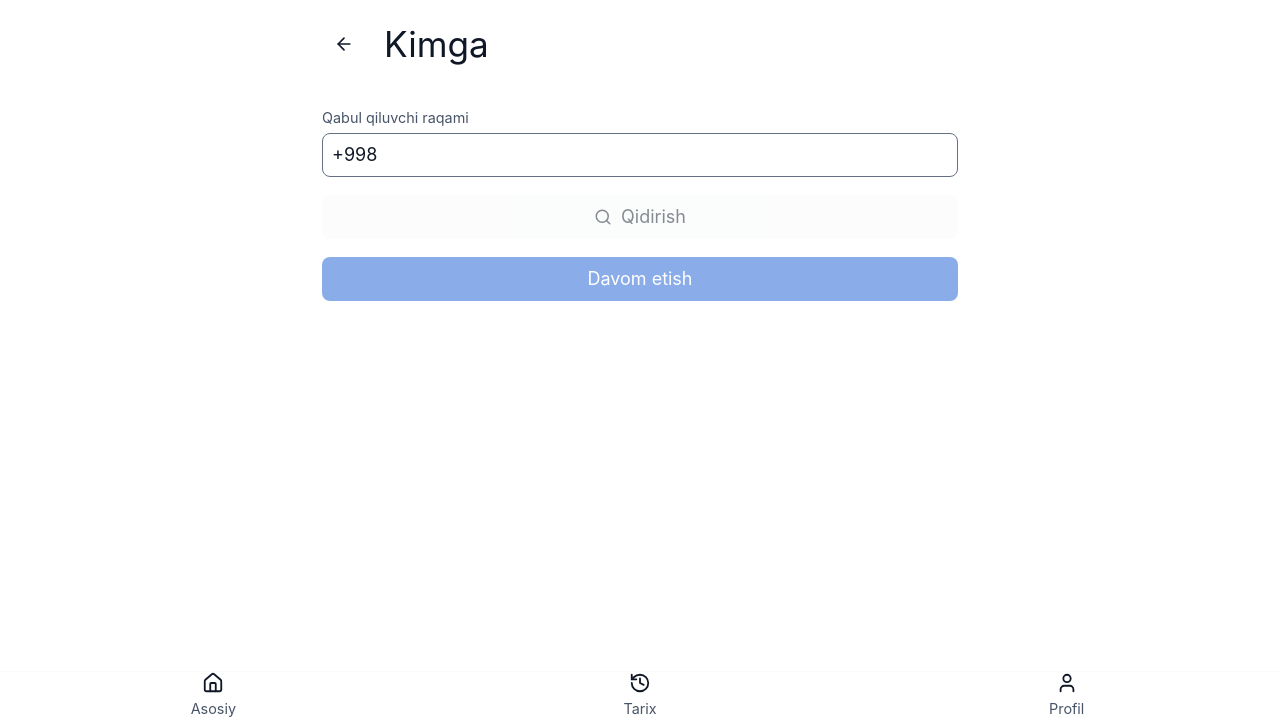
step 2 — the daily allowance › refuses an amount the server would refuse, before spending the round trip
The width and height of the screenshot is (1280, 720).
Type "907654321" into the field labelled "Qabul qiluvchi raqami". click: [640, 155]
box: x1=322 y1=133 x2=958 y2=177
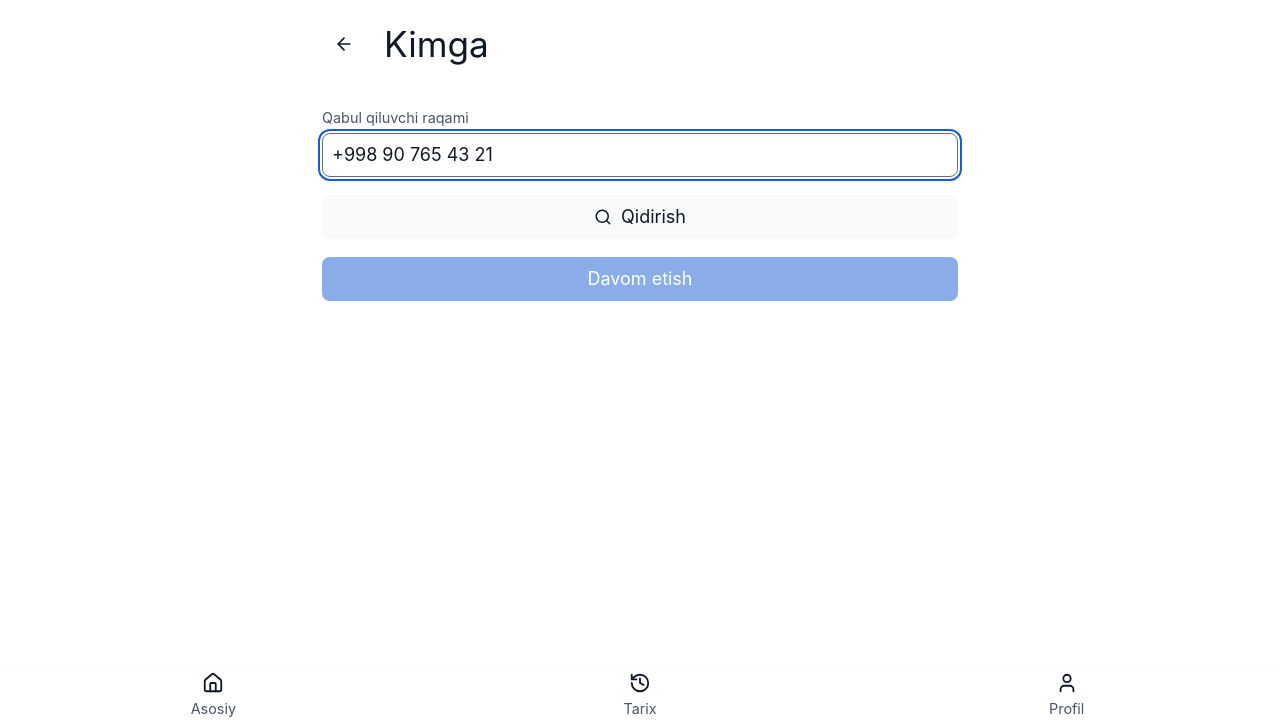
Click the button "Qidirish". click: [640, 217]
box: x1=322 y1=195 x2=958 y2=239
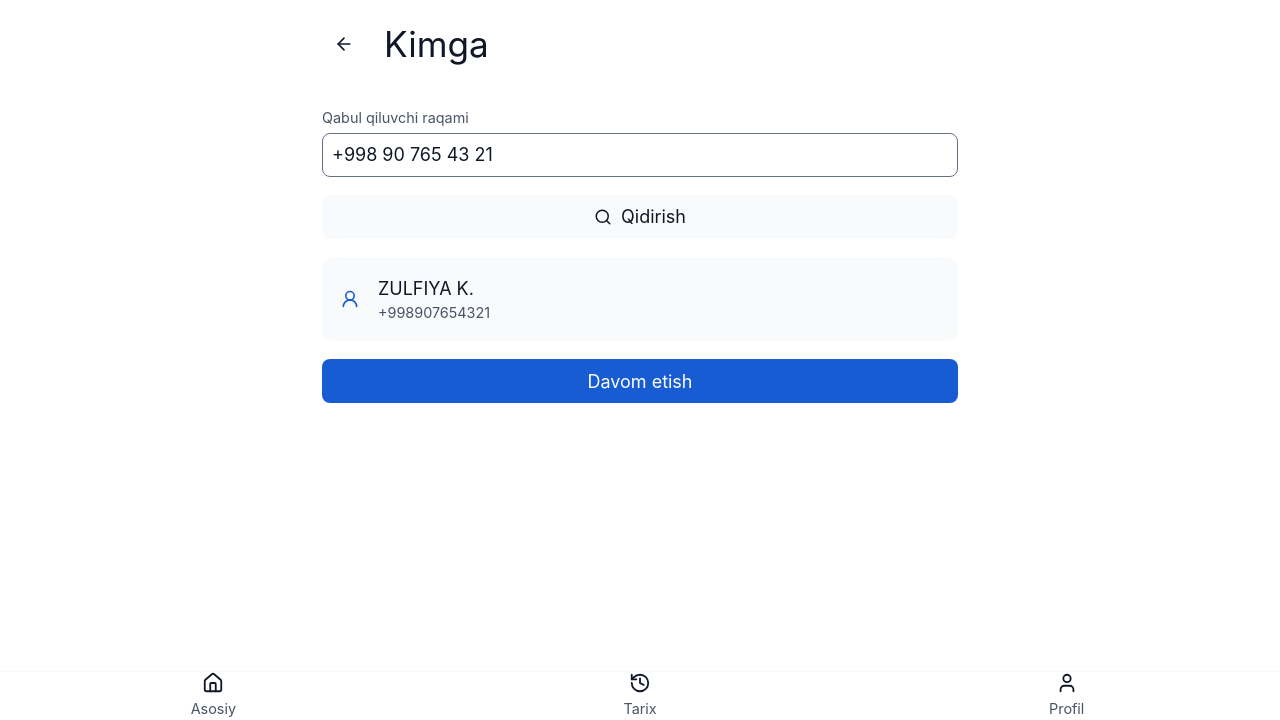
Expected: the text "ZULFIYA K." is shown, x1=378 y1=275 x2=490 y2=302
Click the button "Davom etish". click: [640, 381]
box: x1=322 y1=359 x2=958 y2=403
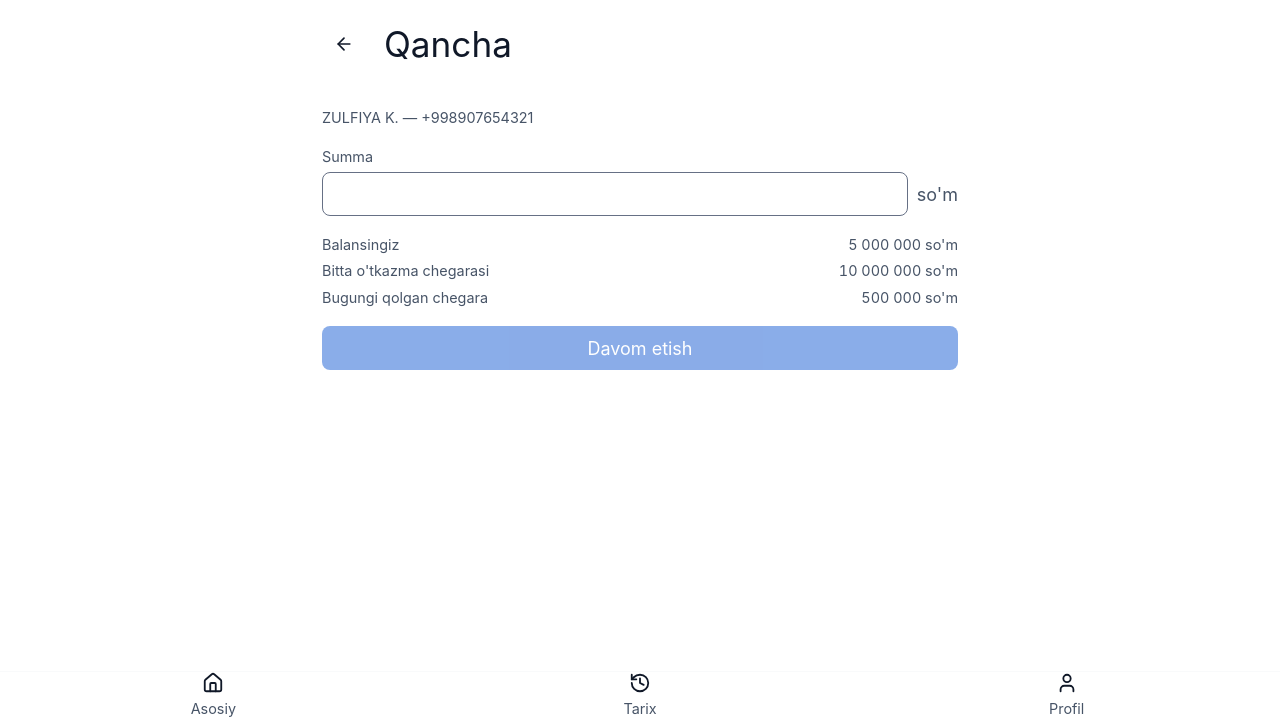
Expected: the text "500 000 so'm" is shown, x1=861 y1=287 x2=958 y2=308
Type "600000" into the field labelled "Summa". click: [615, 194]
box: x1=322 y1=172 x2=908 y2=216
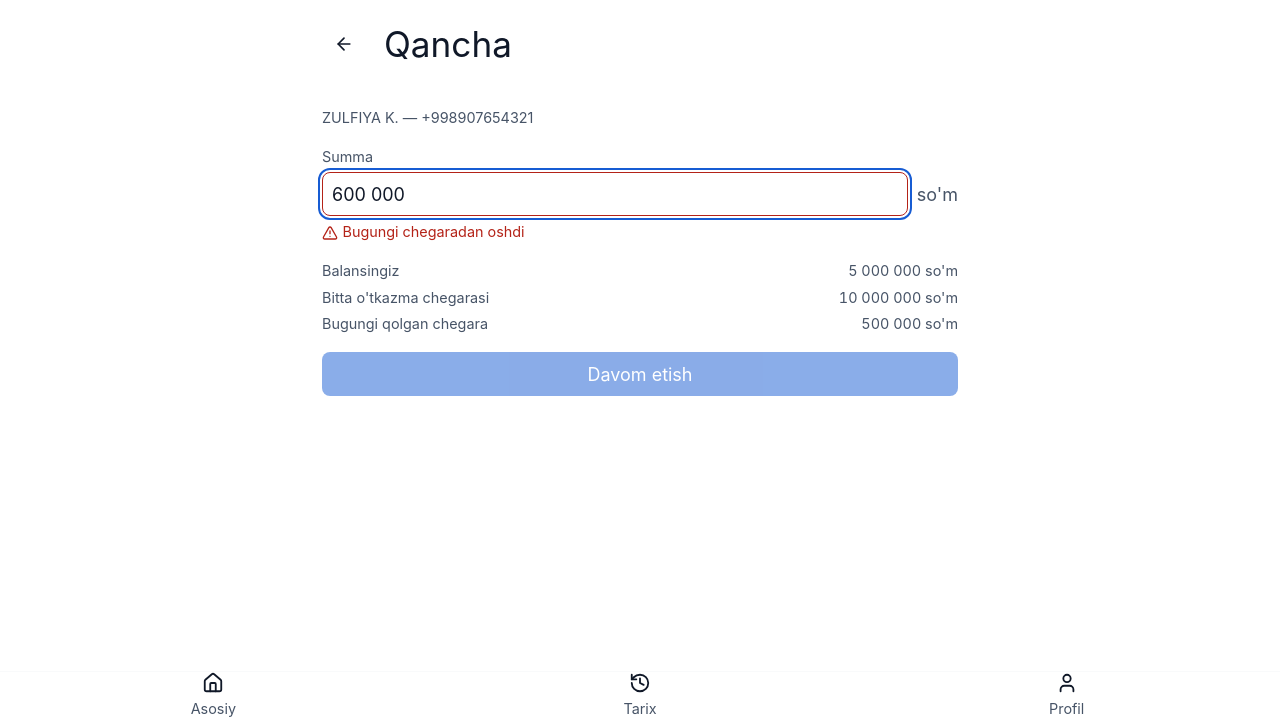
Expected: the button "Davom etish" is disabled, x1=322 y1=352 x2=958 y2=396
Expected: the text "Bugungi chegaradan oshdi" is shown, x1=342 y1=221 x2=525 y2=242
